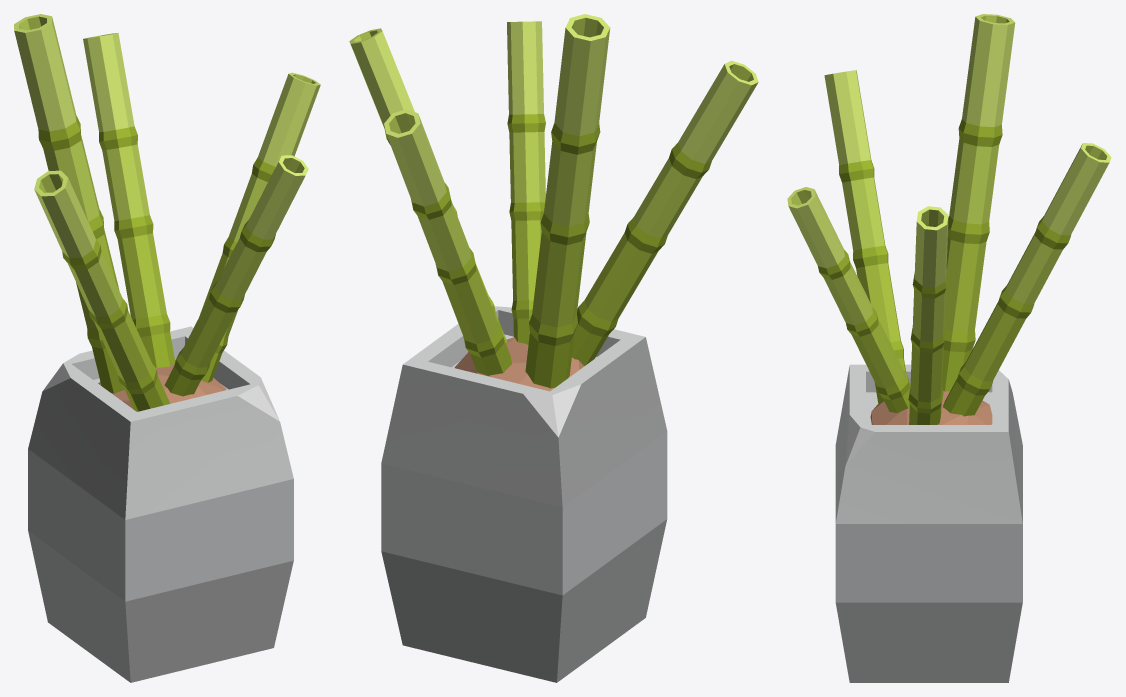
File: flowerpot with bamboo_green.fbx
The picture shows the model from 3 angles, left to right: view 1: azimuth 30°, elevation 25°; view 2: azimuth 150°, elevation 25°; view 3: azimuth 270°, elevation 25°; orthographic projection. The views are drawn at different scales.
Visible parts, largest first — view 1: flowerpot_with_bamboo_green; view 2: flowerpot_with_bamboo_green; view 3: flowerpot_with_bamboo_green.
Part boxes in pixels (left/top/right/bottom): flowerpot_with_bamboo_green: left=14, top=14, right=320, bottom=682; flowerpot_with_bamboo_green: left=349, top=14, right=758, bottom=682; flowerpot_with_bamboo_green: left=787, top=14, right=1111, bottom=682.
Bounding box in the file's own units: 93.04 × 166 × 82.89.
